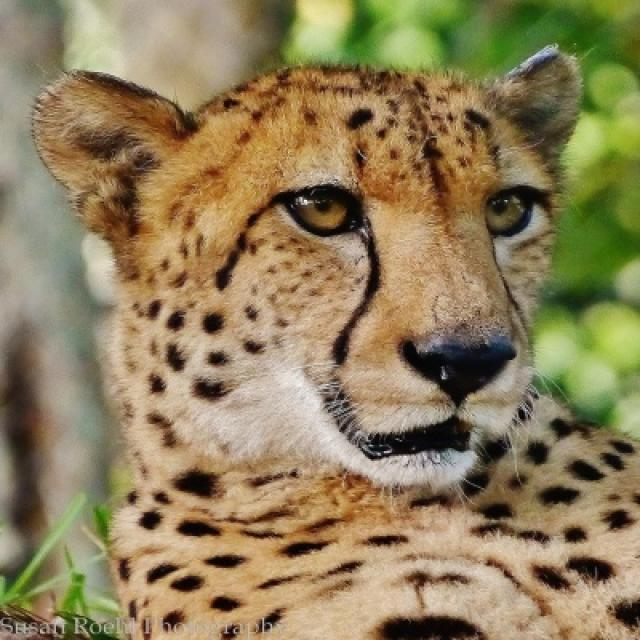Cheetah: (32, 45, 638, 638)
